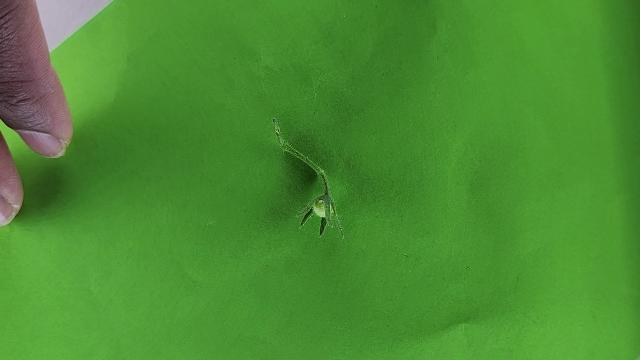Fruit Bud: (299, 196, 328, 231)
